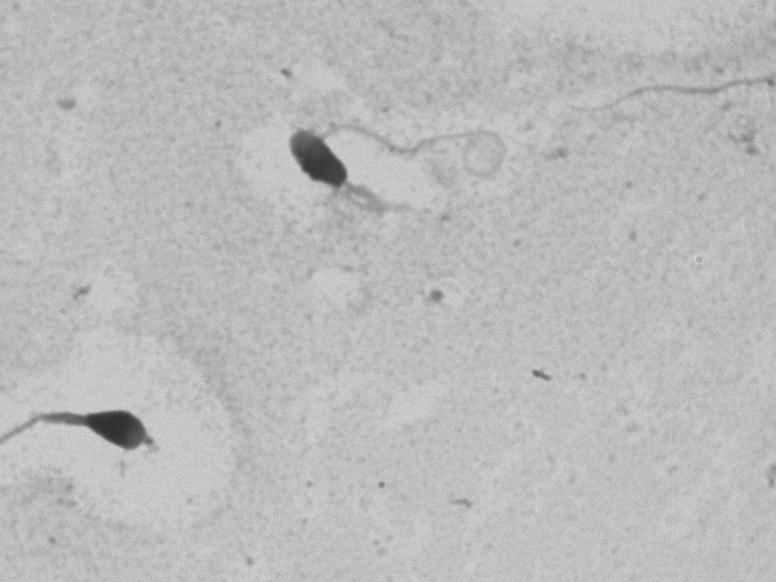Abnormal: (239, 73, 465, 257), (19, 374, 164, 486)
